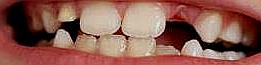Hypodontia: (161, 17, 198, 33)
